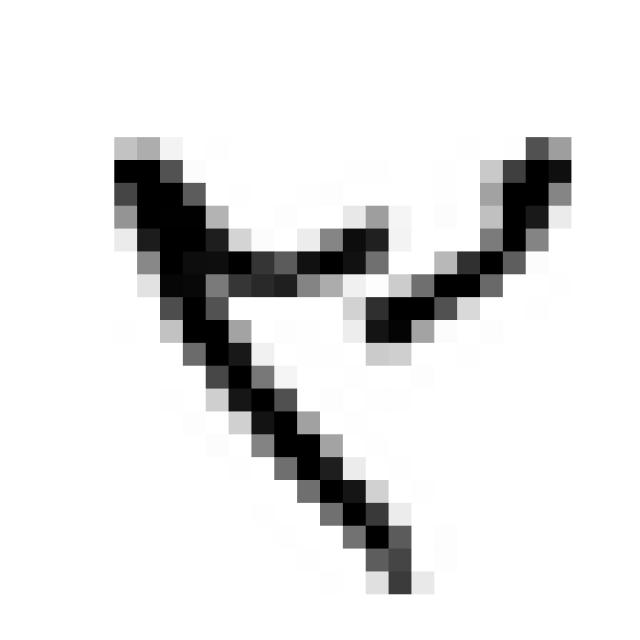3 -three-: (89, 105, 590, 606)
